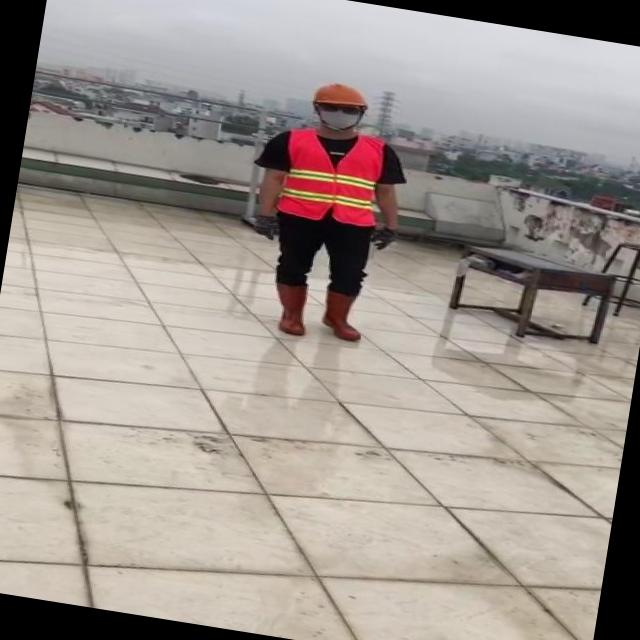boots: (318, 288, 368, 342), (270, 282, 316, 337)
gloves: (246, 188, 304, 258), (368, 206, 433, 268)
helmet: (312, 78, 372, 112)
vest: (277, 125, 392, 228)
